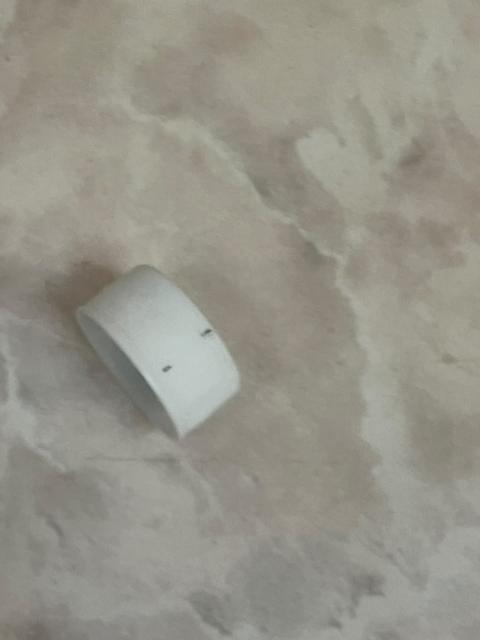HDPE: (52, 233, 268, 473)
